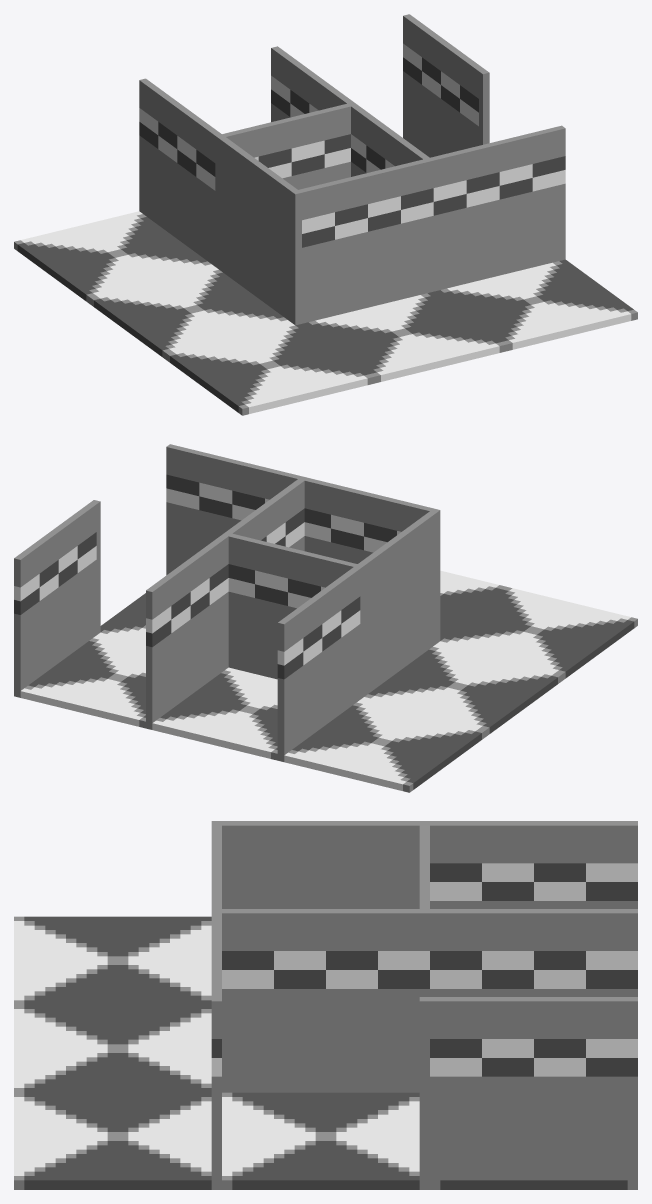
Rendered from level_maze-9.obj.
3 renders of one model, top to bottom at view 1: azimuth 30°, elevation 25°; view 2: azimuth 150°, elevation 25°; view 3: azimuth 270°, elevation 25°, orthographic. The views are drawn at different scales.
Visible parts, largest first — view 1: level_maze-9; view 2: level_maze-9; view 3: level_maze-9.
Boxes of the visible parts, box(x1,y1,x2,y2) form: level_maze-9: box(14, 14, 637, 415); level_maze-9: box(14, 444, 637, 792); level_maze-9: box(14, 821, 637, 1189).
Size of the model in its own units: 60 by 20 by 60.
Materials: 1 (1 with a texture image).
